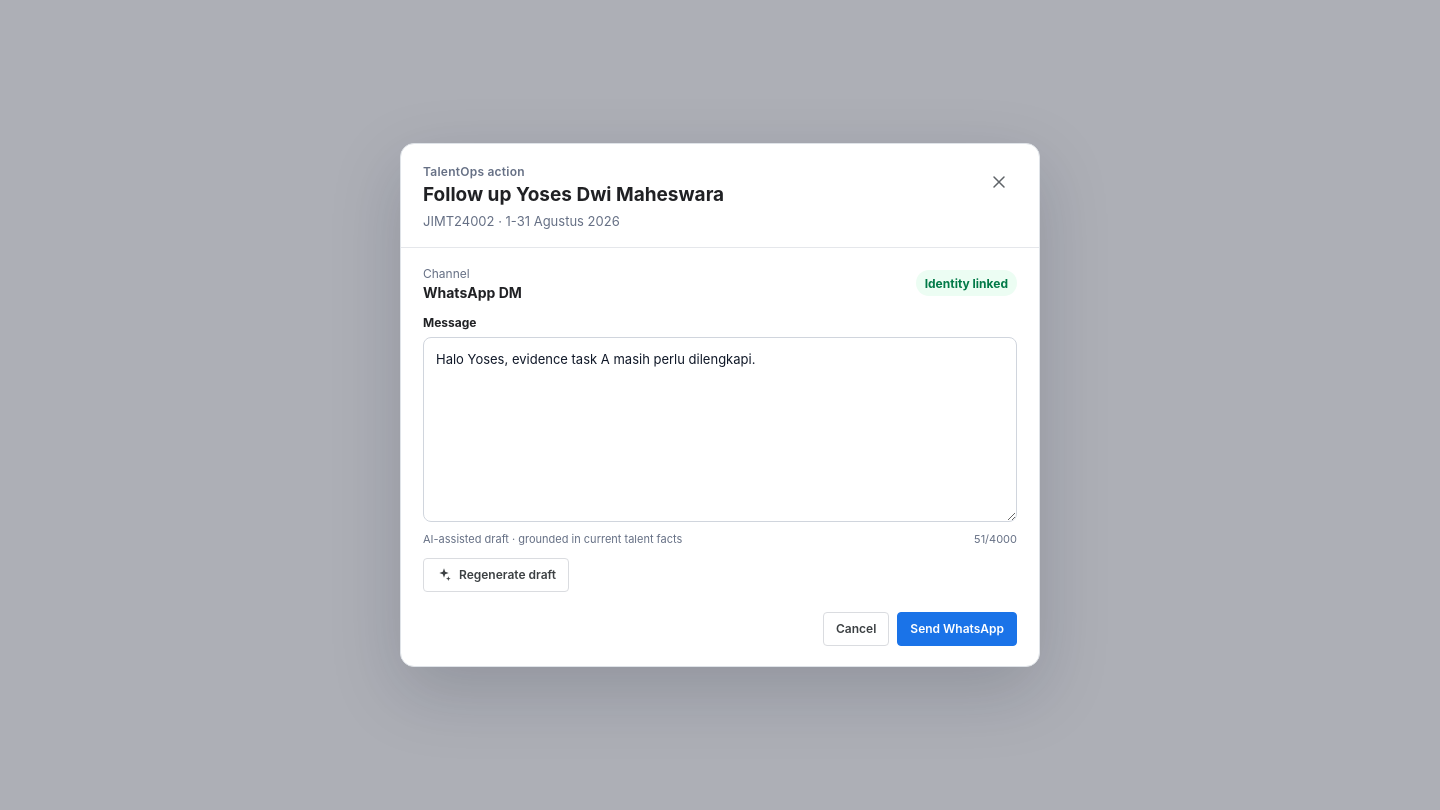
FollowUpComposer › shows identity binding precisely and sends only after an explicit click
Expected: the text "Identity linked" is shown, left=916, top=270, right=1017, bottom=296
Click the button "Send WhatsApp": (957, 629) left=897, top=612, right=1017, bottom=646
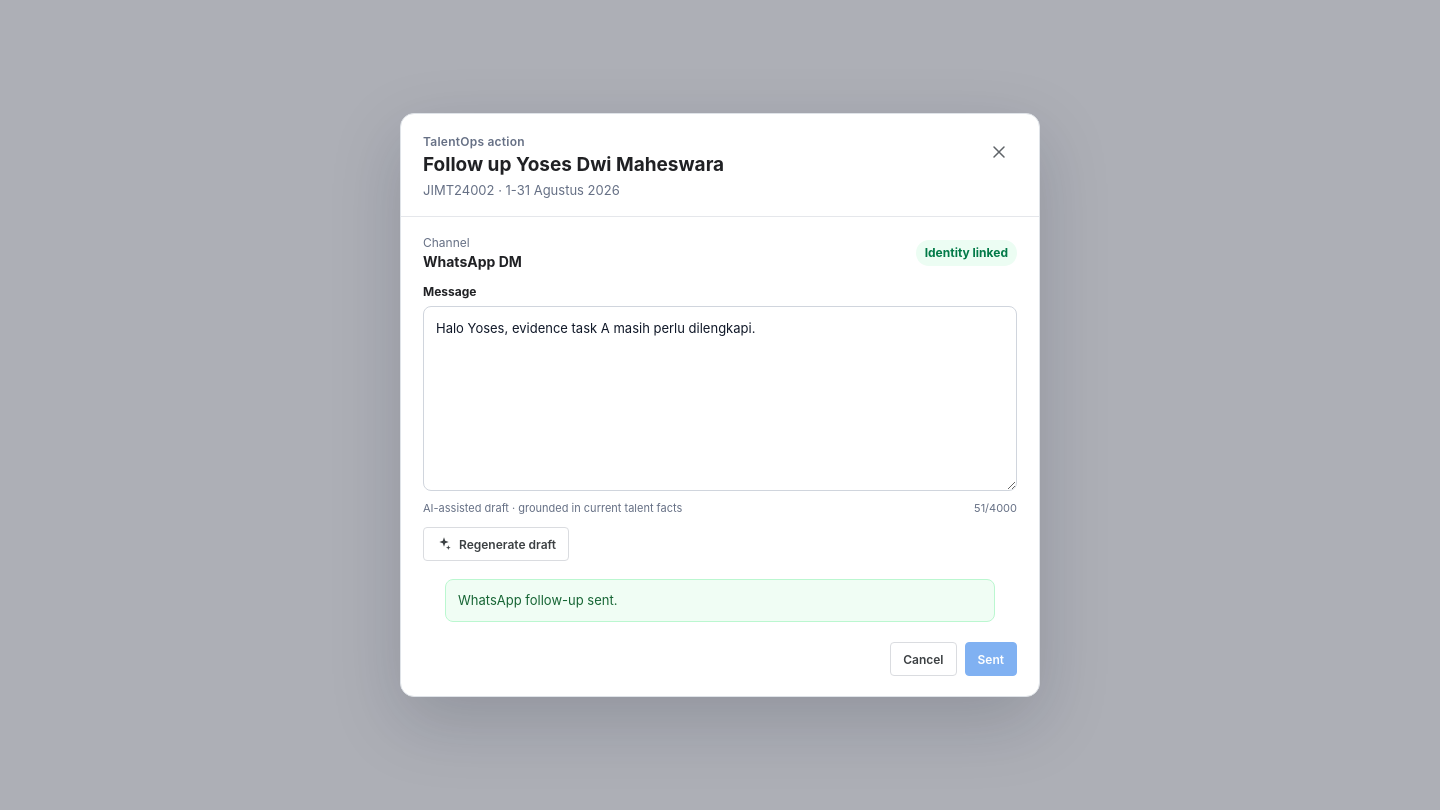
Expected: the text "WhatsApp follow-up sent." is shown, left=445, top=580, right=995, bottom=622
